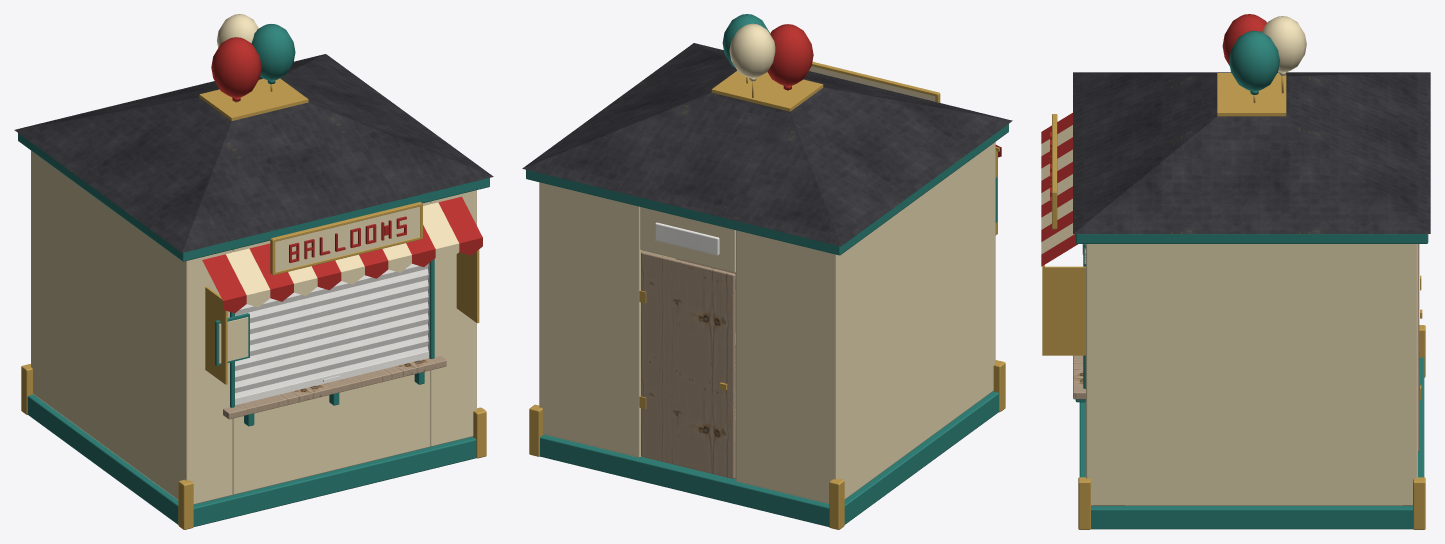
File: balloon-stall.glb
3 views of the same model, side by side, from view 1: azimuth 30°, elevation 25°; view 2: azimuth 150°, elevation 25°; view 3: azimuth 270°, elevation 25° (orthographic). The views are drawn at different scales.
Parts seen in each view (by area): view 1: Static_GroundRoot_cream, Roof_Main, Shutter_Closed_Curtain, Static_GroundRoot_paint_teal, Static_GroundRoot_paint_red, Static_GroundRoot_brass, Static_GroundRoot_timber; view 2: Static_GroundRoot_cream, Roof_Main, Static_GroundRoot_timber, Static_GroundRoot_paint_teal, Static_GroundRoot_brass, Static_GroundRoot_paint_red, Interior_Metal; view 3: Static_GroundRoot_cream, Roof_Main, Static_GroundRoot_paint_teal, Static_GroundRoot_brass, Static_GroundRoot_paint_red, Static_GroundRoot_timber.
Part boxes in pixels (x1=…): Static_GroundRoot_cream: x1=31, y1=14, x2=476, y2=504; Roof_Main: x1=14, y1=54, x2=493, y2=252; Shutter_Closed_Curtain: x1=235, y1=263, x2=429, y2=405; Static_GroundRoot_paint_teal: x1=18, y1=24, x2=489, y2=526; Static_GroundRoot_paint_red: x1=202, y1=37, x2=482, y2=313; Static_GroundRoot_brass: x1=21, y1=78, x2=486, y2=529; Static_GroundRoot_timber: x1=223, y1=356, x2=446, y2=419; Static_GroundRoot_cream: x1=539, y1=23, x2=995, y2=503; Roof_Main: x1=522, y1=43, x2=1012, y2=246; Static_GroundRoot_timber: x1=641, y1=251, x2=735, y2=478; Static_GroundRoot_paint_teal: x1=526, y1=14, x2=1008, y2=526; Static_GroundRoot_brass: x1=529, y1=61, x2=1005, y2=529; Static_GroundRoot_paint_red: x1=767, y1=24, x2=1001, y2=157; Interior_Metal: x1=655, y1=222, x2=735, y2=359; Static_GroundRoot_cream: x1=1041, y1=16, x2=1417, y2=505; Roof_Main: x1=1073, y1=72, x2=1430, y2=233; Static_GroundRoot_paint_teal: x1=1075, y1=30, x2=1428, y2=529; Static_GroundRoot_brass: x1=1042, y1=73, x2=1425, y2=529; Static_GroundRoot_paint_red: x1=1041, y1=14, x2=1266, y2=266; Static_GroundRoot_timber: x1=1073, y1=244, x2=1419, y2=451.
Bounding box in the file's own units: 3 × 3.75 × 3.05.
Materials: 8 (3 with a texture image).
